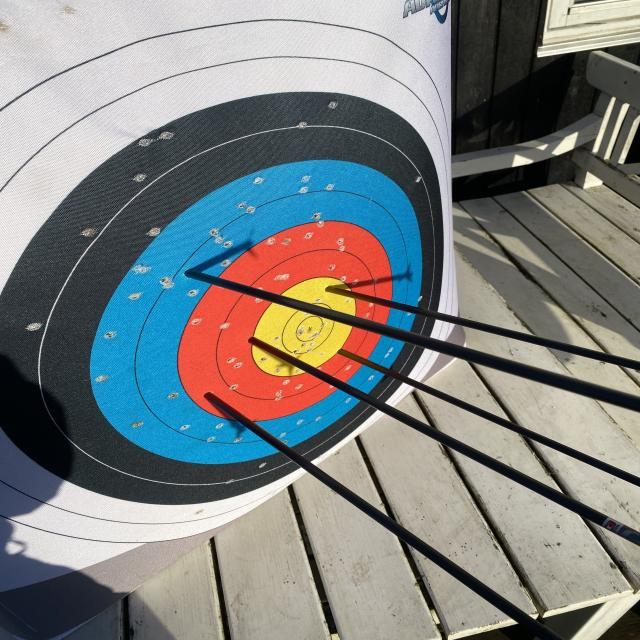Arrow_Blue: (169, 256, 212, 288)
Arrow_Red: (240, 329, 274, 353), (194, 386, 228, 407), (336, 343, 356, 367)
Arrow_Yellow: (317, 274, 344, 300)
